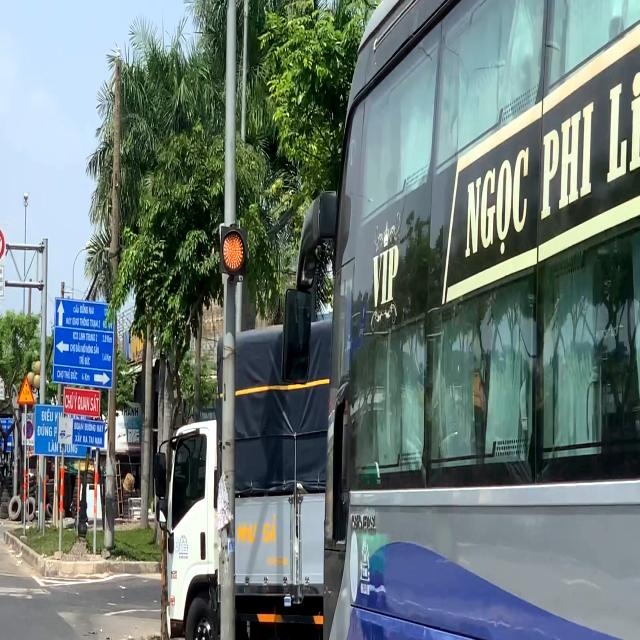S.509a: (16, 374, 36, 406)
